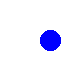circle: (40, 30, 60, 50)
